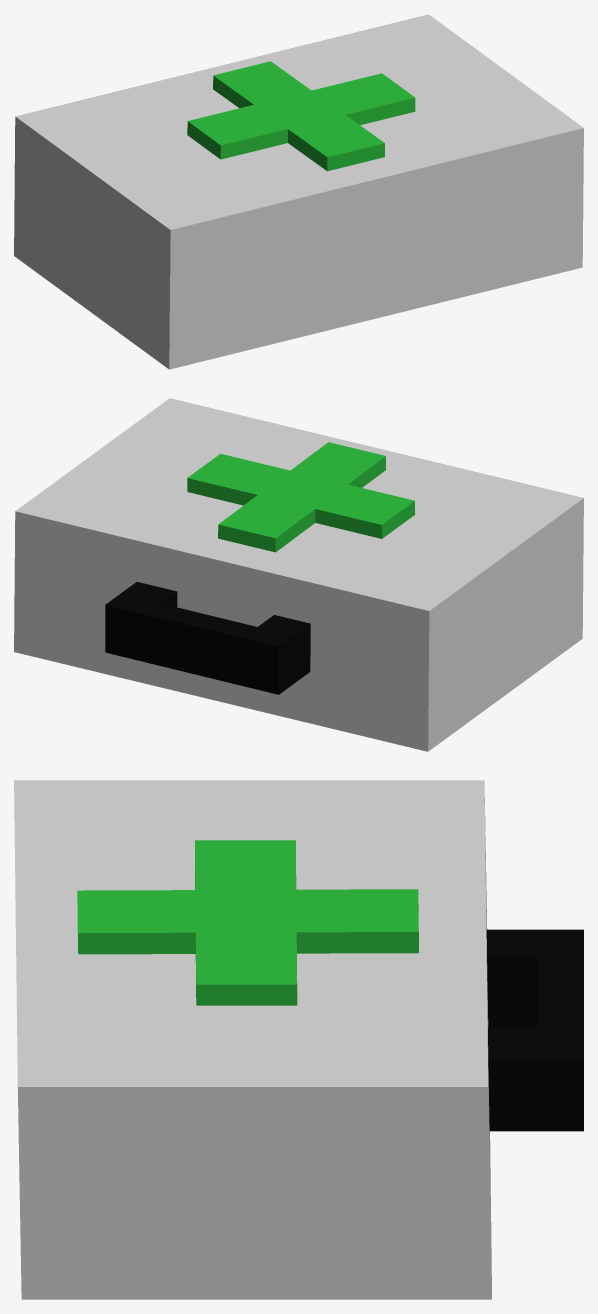
Rendered from ilkyardimcantasiyesil.fbx.
3 views of the same model, one above another, from view 1: azimuth 30°, elevation 25°; view 2: azimuth 150°, elevation 25°; view 3: azimuth 270°, elevation 25° (orthographic). The views are drawn at different scales.
Parts seen in each view (by area): view 1: kutu, yardimisareti; view 2: kutu, yardimisareti, Cube; view 3: kutu, yardimisareti, Cube.
Boxes of the visible parts, bbox=[...] form: kutu: bbox=[14, 14, 583, 369]; yardimisareti: bbox=[187, 61, 415, 171]; kutu: bbox=[14, 398, 583, 751]; yardimisareti: bbox=[187, 442, 415, 552]; Cube: bbox=[105, 582, 310, 694]; kutu: bbox=[14, 780, 491, 1299]; yardimisareti: bbox=[77, 840, 418, 1005]; Cube: bbox=[486, 929, 583, 1131].
Bounding box in the file's own units: 438 × 156 × 344.
